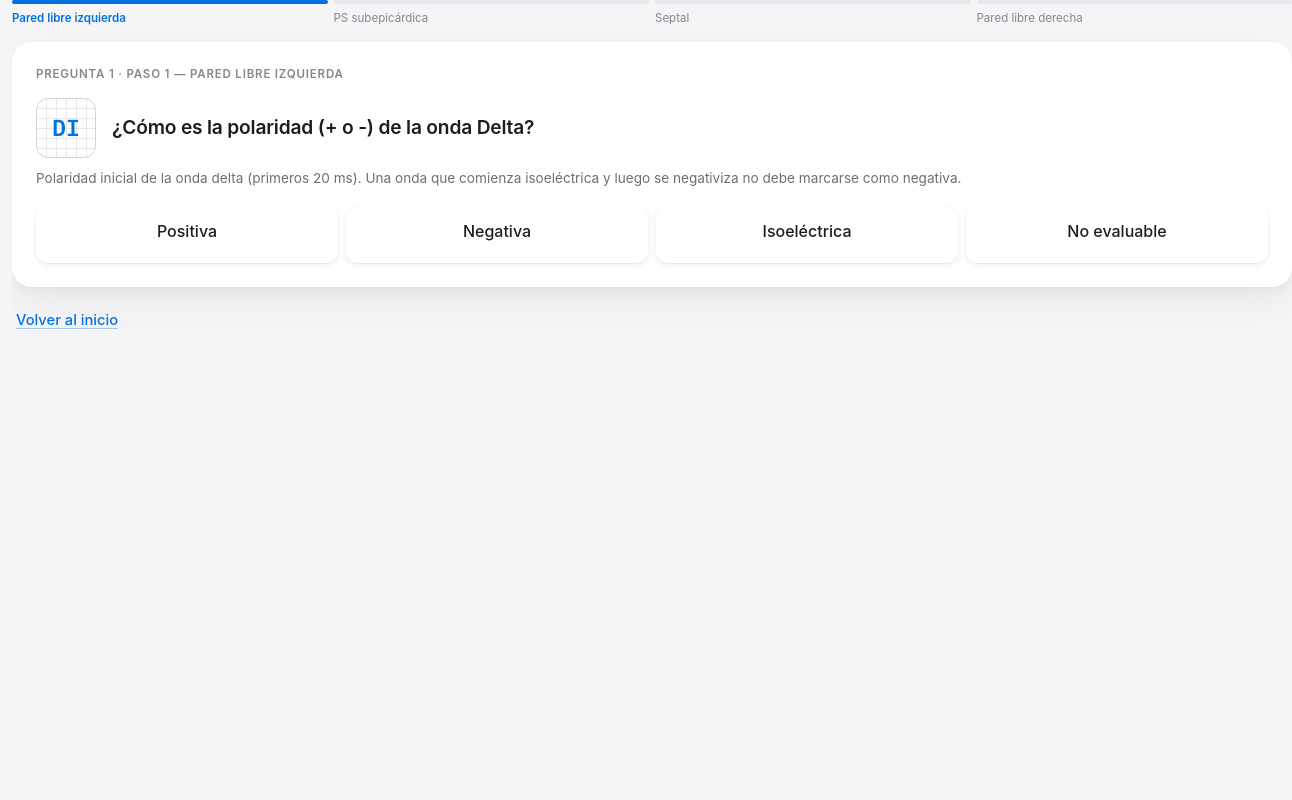
Test case: Asistente guiado › un criterio no evaluable termina como indeterminado sin inventar región
Step 1. Click the button "Negativa" → point(497, 235), box [346,207,648,263]
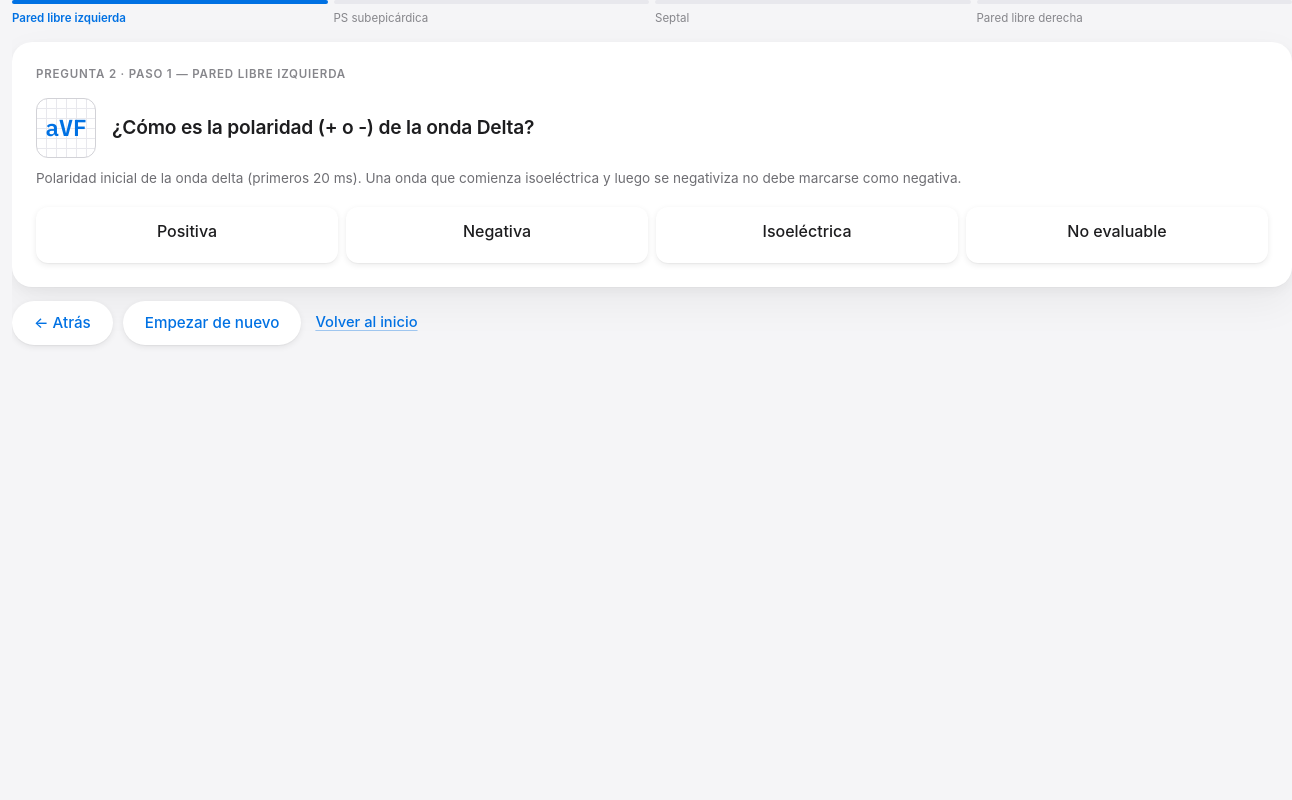
Step 2. Click the button "No evaluable" → point(1117, 235), box [966,207,1268,263]
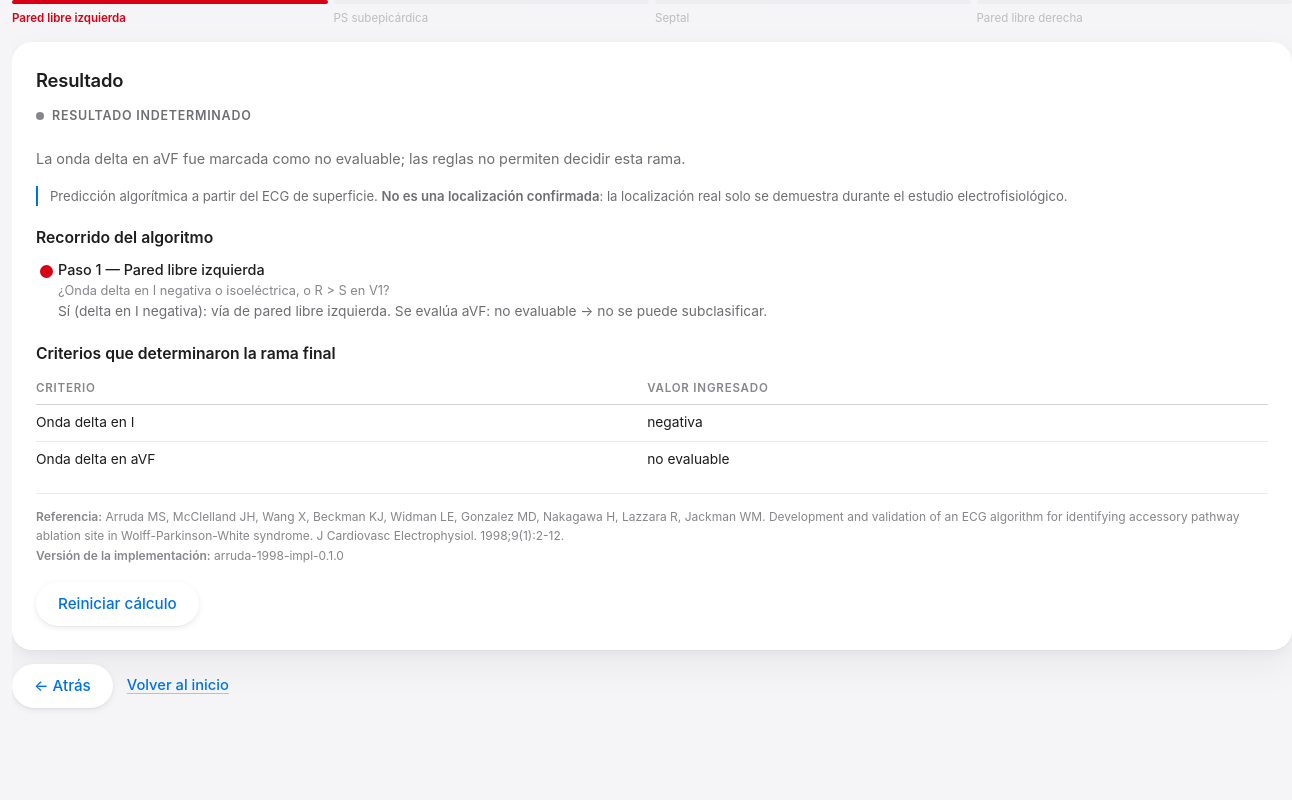
Check: the text with test id "estado" reads "Resultado indeterminado", box [52,108,252,123]
